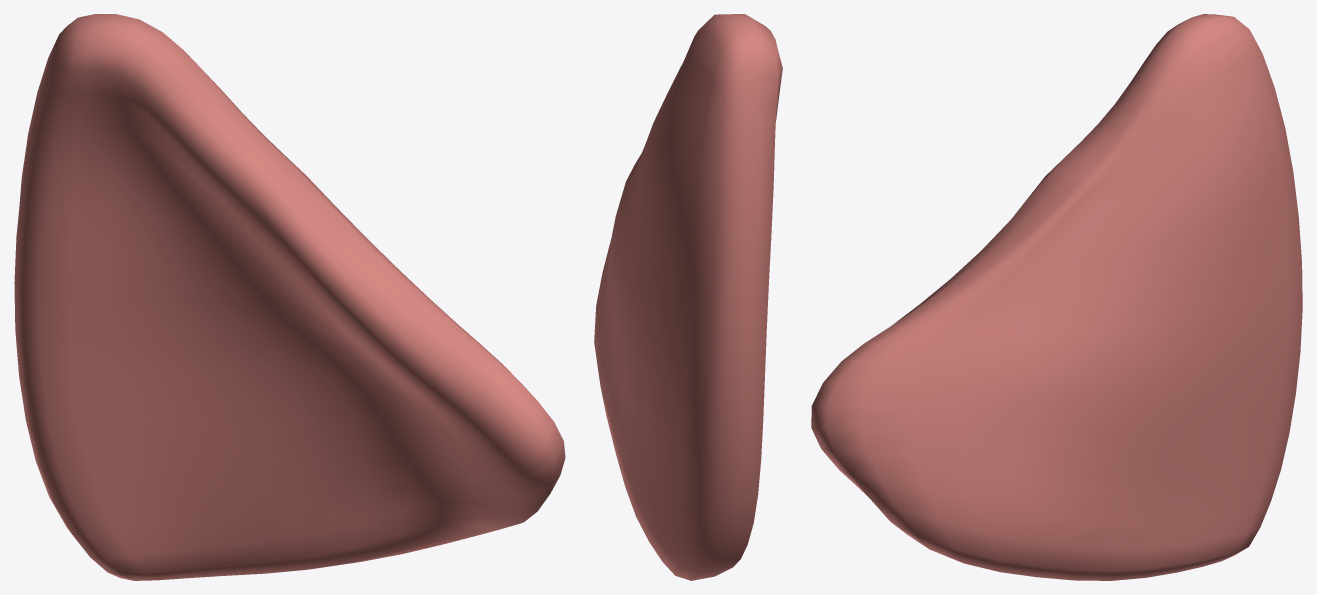
The picture shows the model from 3 angles, left to right: view 1: azimuth 30°, elevation 25°; view 2: azimuth 150°, elevation 25°; view 3: azimuth 270°, elevation 25°; orthographic projection. The views are drawn at different scales.
Parts seen in each view (by area): view 1: ZA_deae0d2aa69d377c; view 2: ZA_deae0d2aa69d377c; view 3: ZA_deae0d2aa69d377c.
Part boxes in pixels (x1,y1,x2,y2): ZA_deae0d2aa69d377c: (14, 14, 565, 580); ZA_deae0d2aa69d377c: (594, 14, 782, 580); ZA_deae0d2aa69d377c: (811, 14, 1302, 580).
Size of the model in its own units: 0.0101 by 0.0167 by 0.0144.
